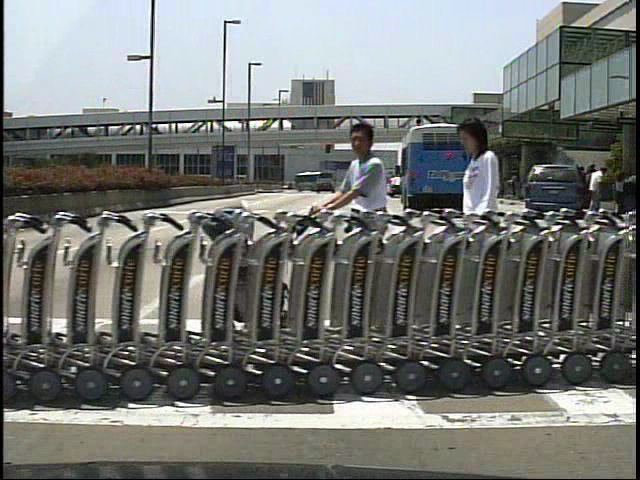person: (311, 118, 410, 362), (453, 115, 515, 330), (589, 165, 609, 215), (584, 163, 600, 215)
